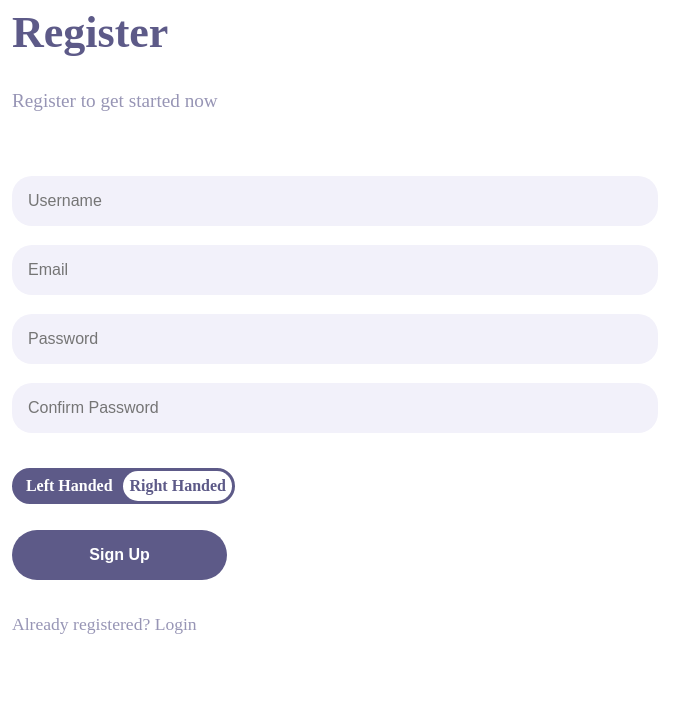
Test: Form Component › displays a "Passwords do not match!" error on registration form
This screenshot has width=675, height=711.
Enter mismatched passwords
In the password field with placeholder "Password": (335, 339) [12,314,658,364], type "password123"
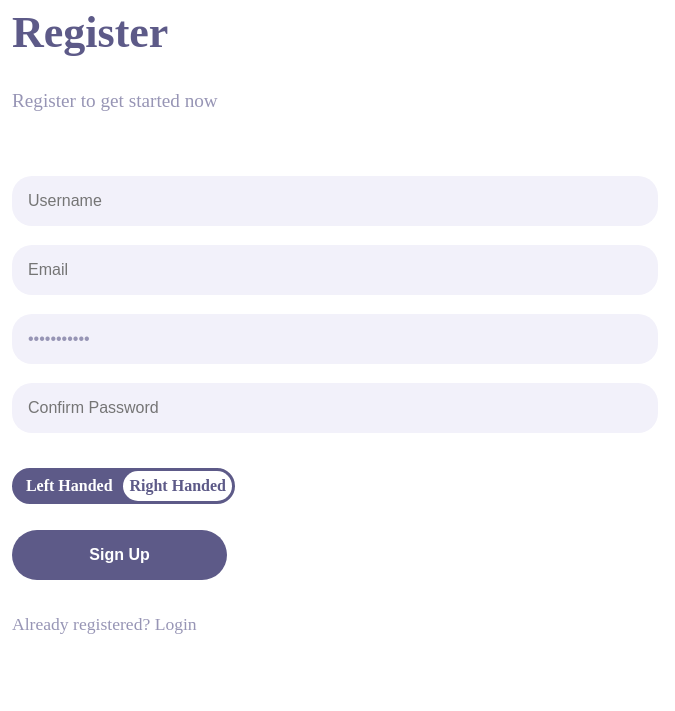
In the password field with placeholder "Confirm Password": (335, 408) [12,383,658,433], type "password456"
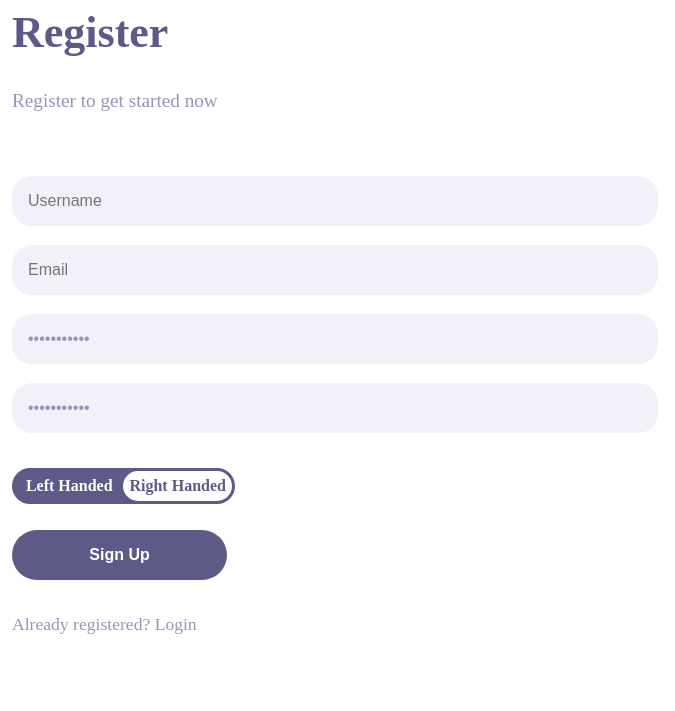
Click the button "Sign Up": (120, 555) [12,530,227,580]
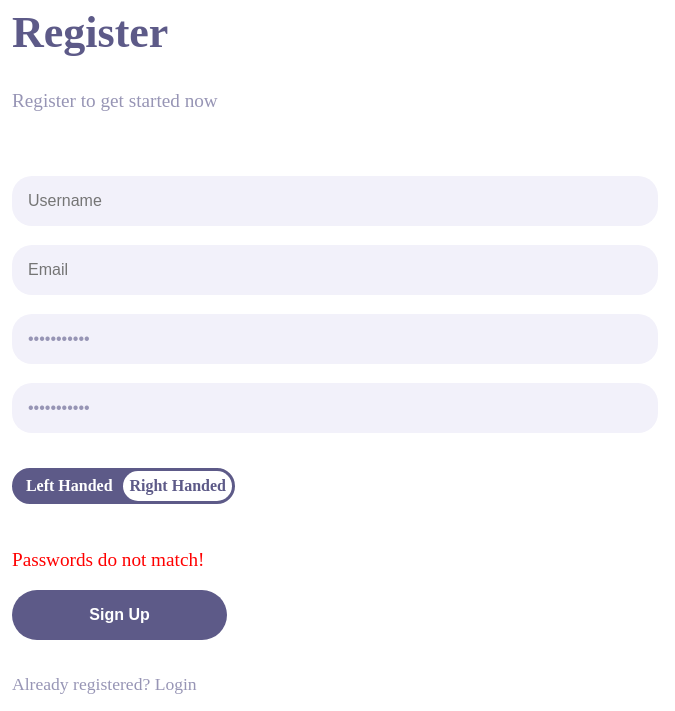
Result: the text "Passwords do not match!" is shown at [12,549,204,570]
